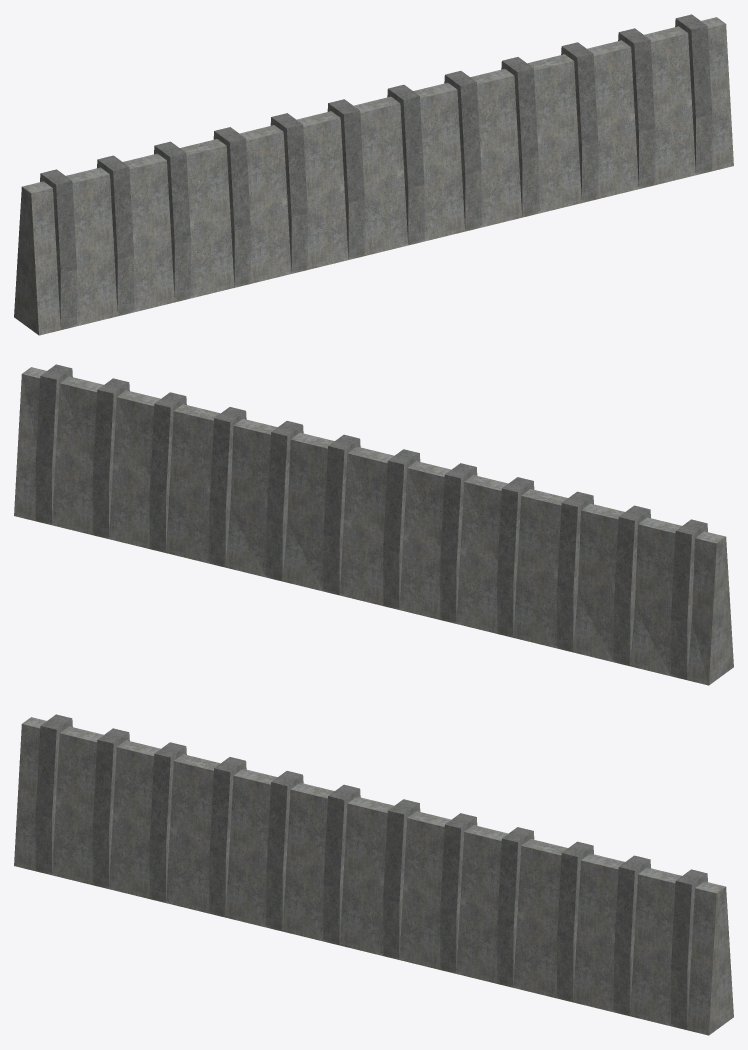
File: mun_all_military_wall_med_impl_32_s01_l1.fbx
3 views of the same model, one above another, from view 1: azimuth 30°, elevation 25°; view 2: azimuth 150°, elevation 25°; view 3: azimuth 330°, elevation 25° (orthographic).
Visible parts, largest first — view 1: mesh_node; view 2: mesh_node; view 3: mesh_node.
Boxes of the visible parts, <box> form: mesh_node: <box>14,14,733,335</box>; mesh_node: <box>14,364,733,685</box>; mesh_node: <box>14,714,733,1035</box>.
Size of the model in its own units: 32 by 6.25 by 2.
